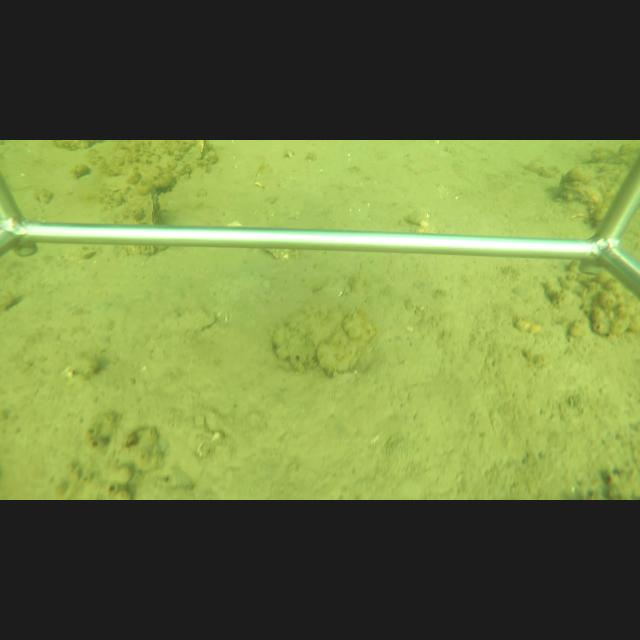Oyster-Closed: (144, 191, 161, 224)
